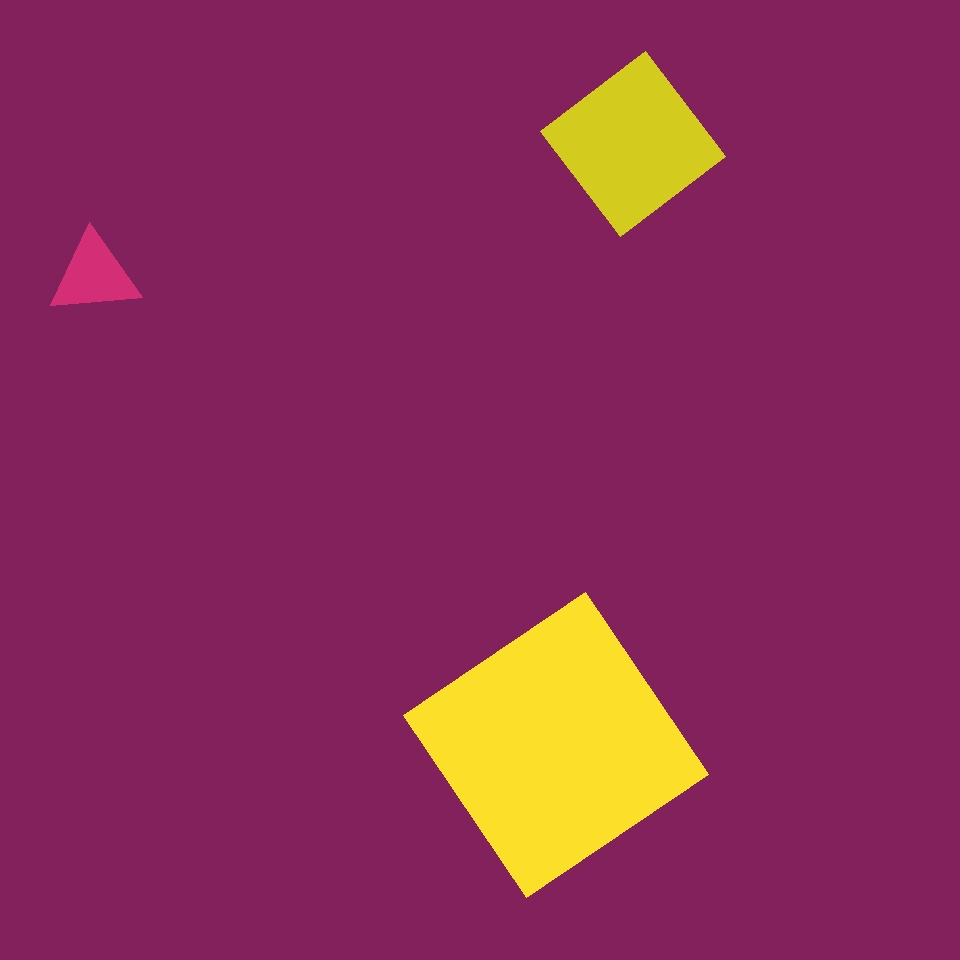circle: (627, 564, 748, 696), (48, 234, 140, 316)
square: (404, 592, 708, 897), (266, 512, 564, 809), (663, 103, 938, 377), (541, 51, 726, 236), (218, 116, 343, 241)
triangle: (740, 750, 934, 944)
